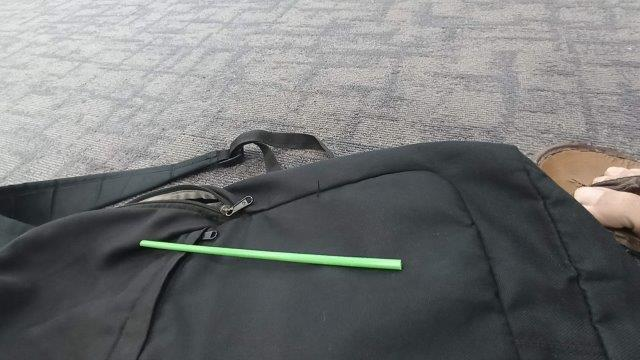sedotan: (140, 240, 401, 269)
